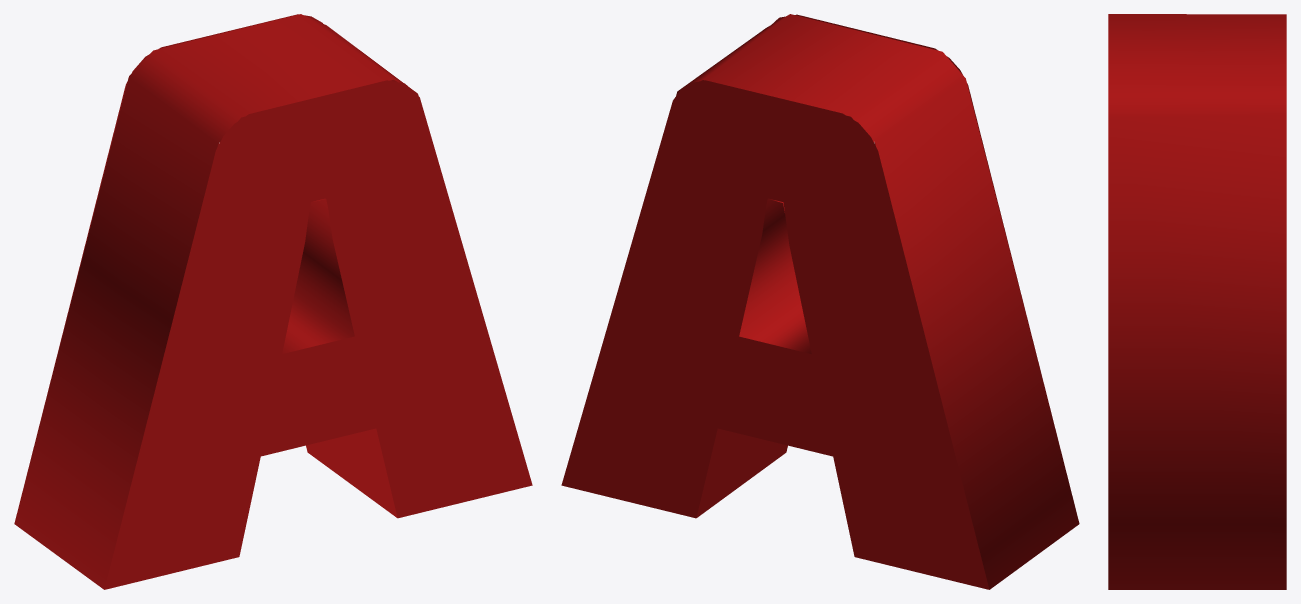
3 renders of one model, left to right at view 1: azimuth 30°, elevation 25°; view 2: azimuth 150°, elevation 25°; view 3: azimuth 270°, elevation 25°, orthographic.
Parts seen in each view (by area): view 1: Text; view 2: Text; view 3: Text.
Part boxes in pixels (x1=…): Text: x1=14, y1=14, x2=532, y2=589; Text: x1=561, y1=14, x2=1079, y2=589; Text: x1=1108, y1=14, x2=1286, y2=589.
Bounding box in the file's own units: 2.2 × 2.16 × 0.8.
